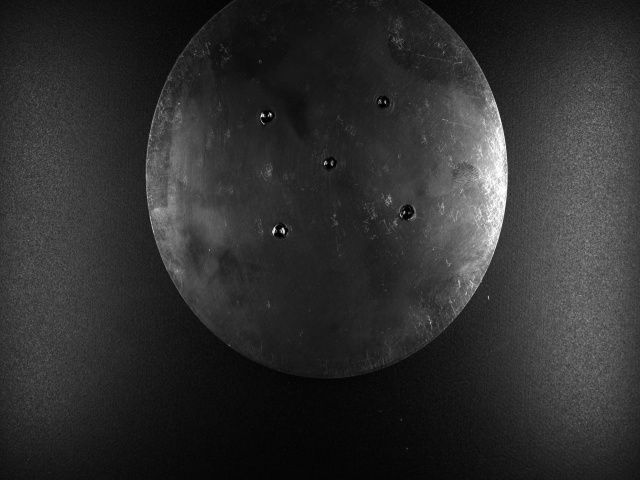zhen_kong: (253, 109, 281, 127), (393, 201, 415, 223), (373, 91, 392, 115), (270, 222, 290, 240), (322, 157, 337, 170)
